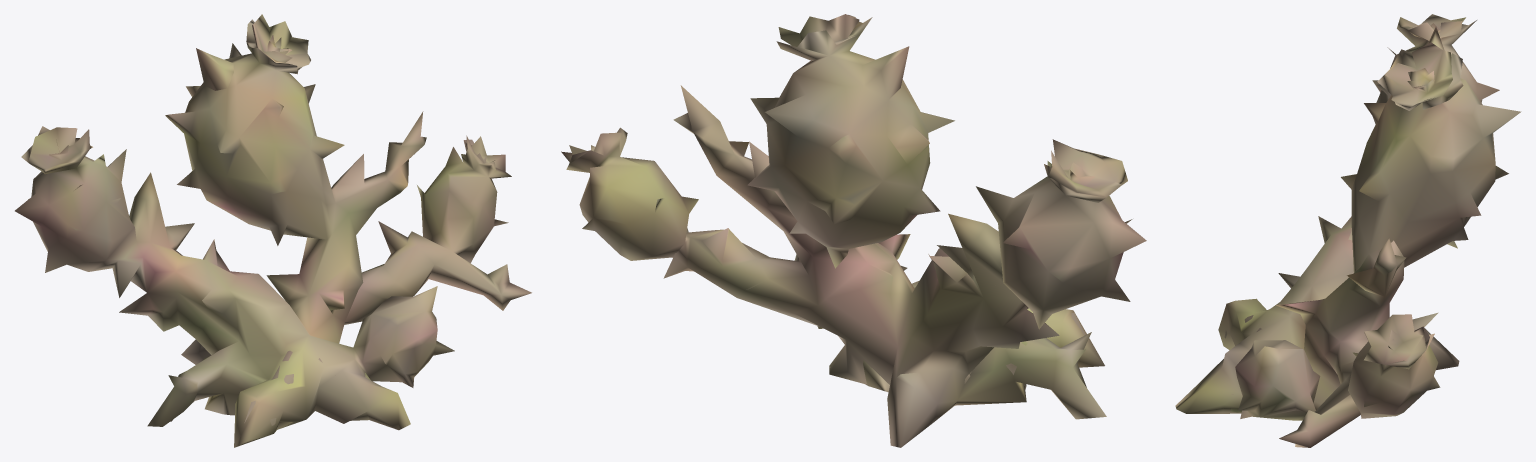
File: Cactus_game.glb
3 views of the same model, side by side, from view 1: azimuth 30°, elevation 25°; view 2: azimuth 150°, elevation 25°; view 3: azimuth 270°, elevation 25° (orthographic). The views are drawn at different scales.
Parts seen in each view (by area): view 1: Cactus; view 2: Cactus; view 3: Cactus.
Part boxes in pixels (x1,y1,x2,y2): Cactus: (15,14,531,447); Cactus: (561,14,1146,447); Cactus: (1175,14,1521,447).
Size of the model in its own units: 1.15 by 0.7446 by 0.6666.
